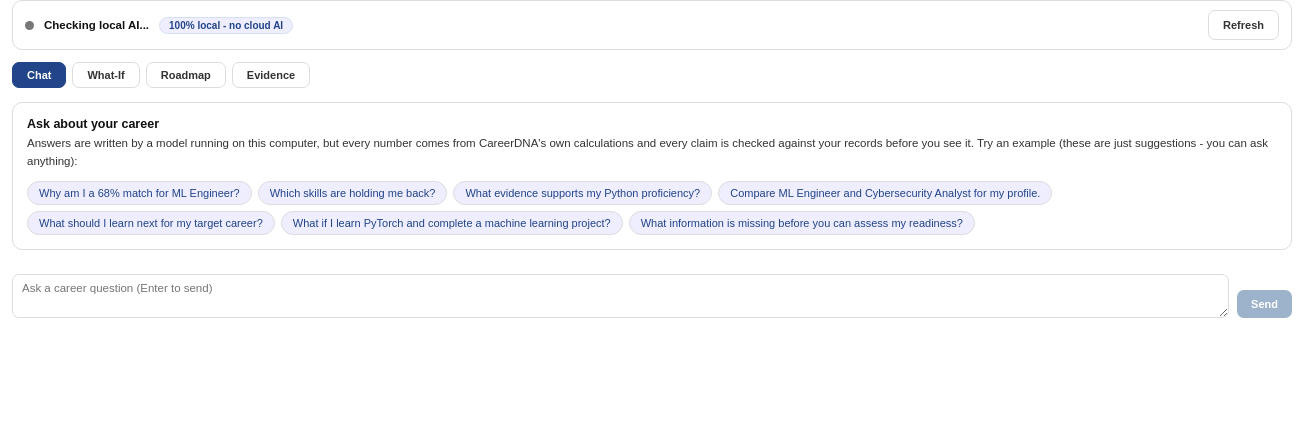
Test: what-if simulator › reports a backend validation error
Click the button "What-If".
click(106, 75)  # box [72, 62, 140, 88]
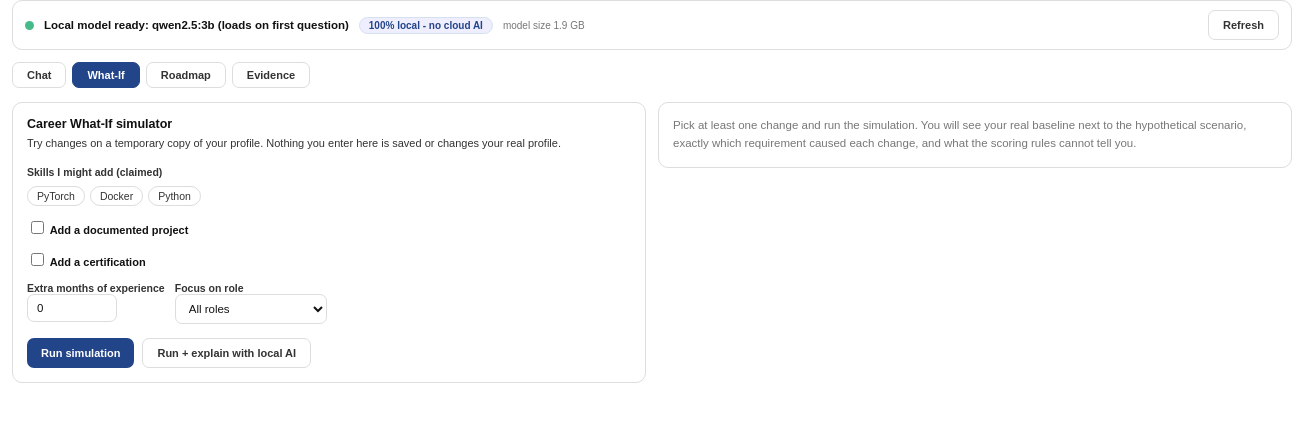
Click the button "Run simulation".
click(81, 352)  # box [27, 338, 134, 368]
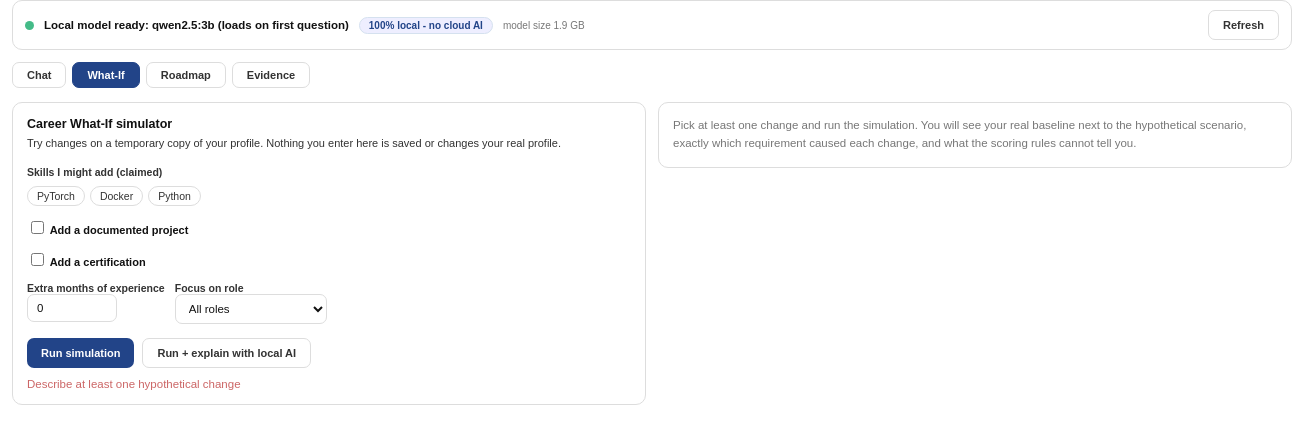
expect the text "Describe at least one hypothetical change" is shown: met, box [27, 378, 240, 390]
